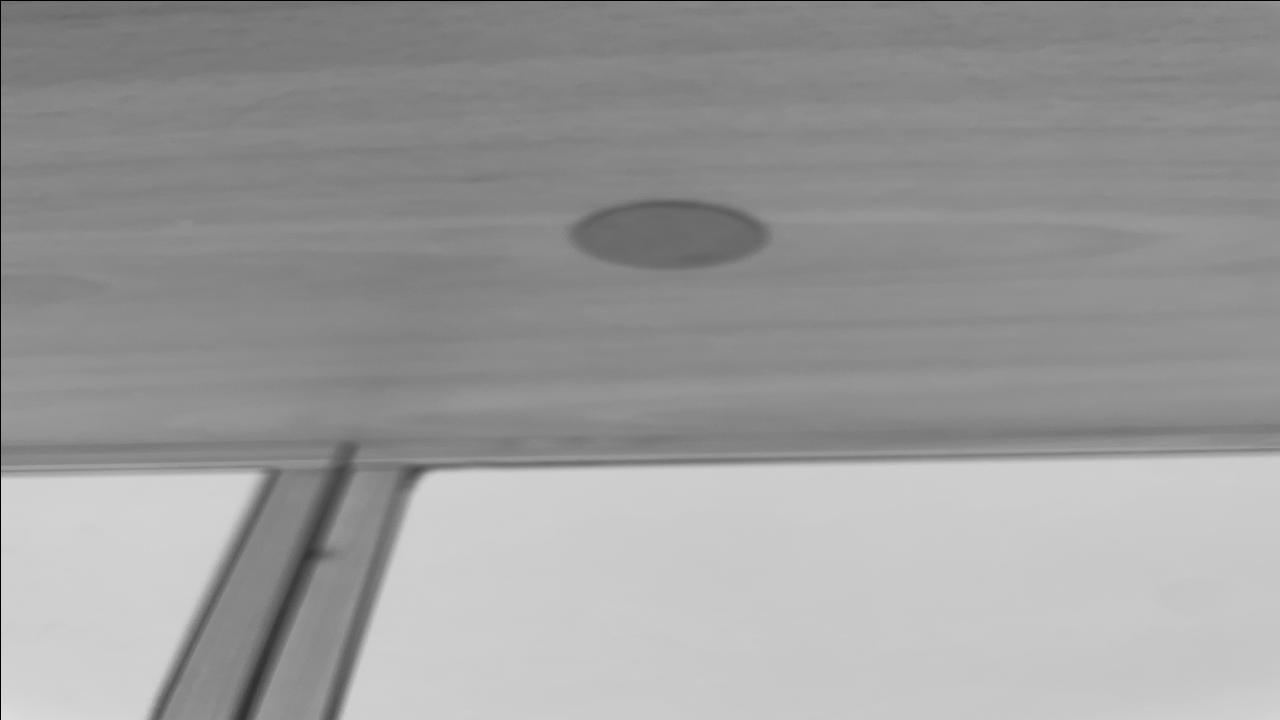coin: (568, 200, 770, 270)
